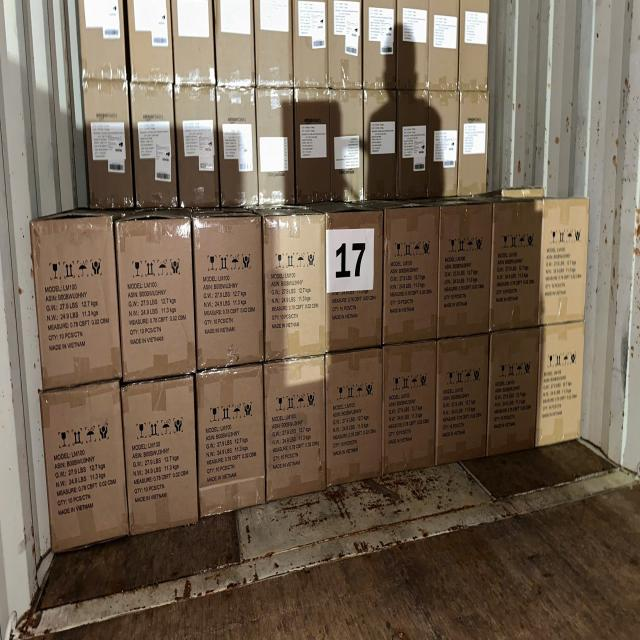Carton: (30, 212, 116, 384), (39, 384, 128, 548), (116, 215, 196, 374), (123, 379, 199, 526), (193, 214, 266, 364), (196, 369, 266, 513), (262, 216, 326, 356), (262, 362, 325, 496), (326, 212, 384, 350), (326, 356, 385, 482), (385, 208, 440, 342), (438, 206, 491, 340), (383, 347, 437, 470), (439, 341, 490, 461), (491, 203, 539, 328), (490, 334, 538, 454), (544, 197, 590, 320), (542, 325, 585, 439)
